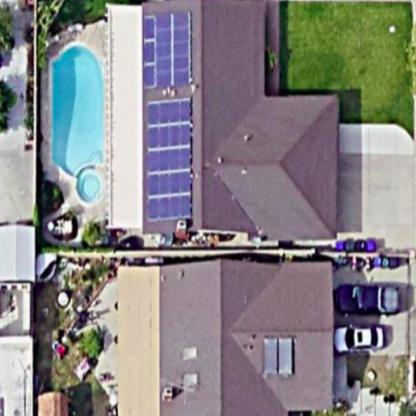car: (326, 278, 410, 320), (326, 320, 392, 354)
solar_panel: (133, 94, 207, 232), (139, 3, 203, 93)
swimming_pool: (36, 27, 114, 214)
